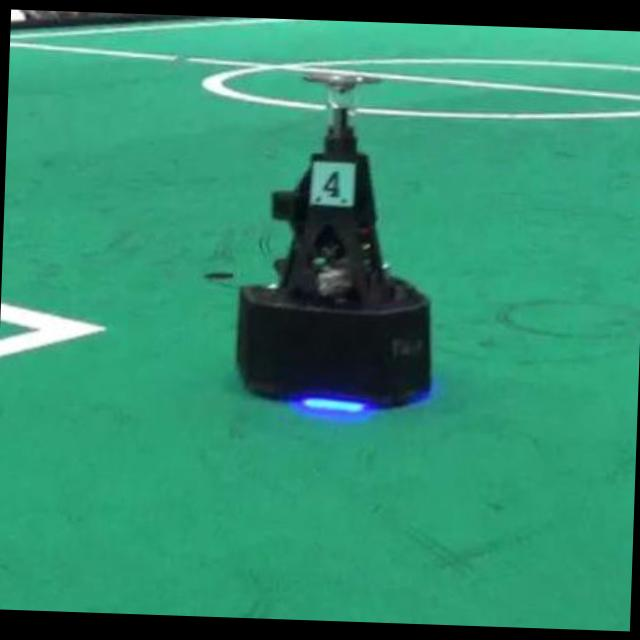robot: (236, 73, 430, 406)
